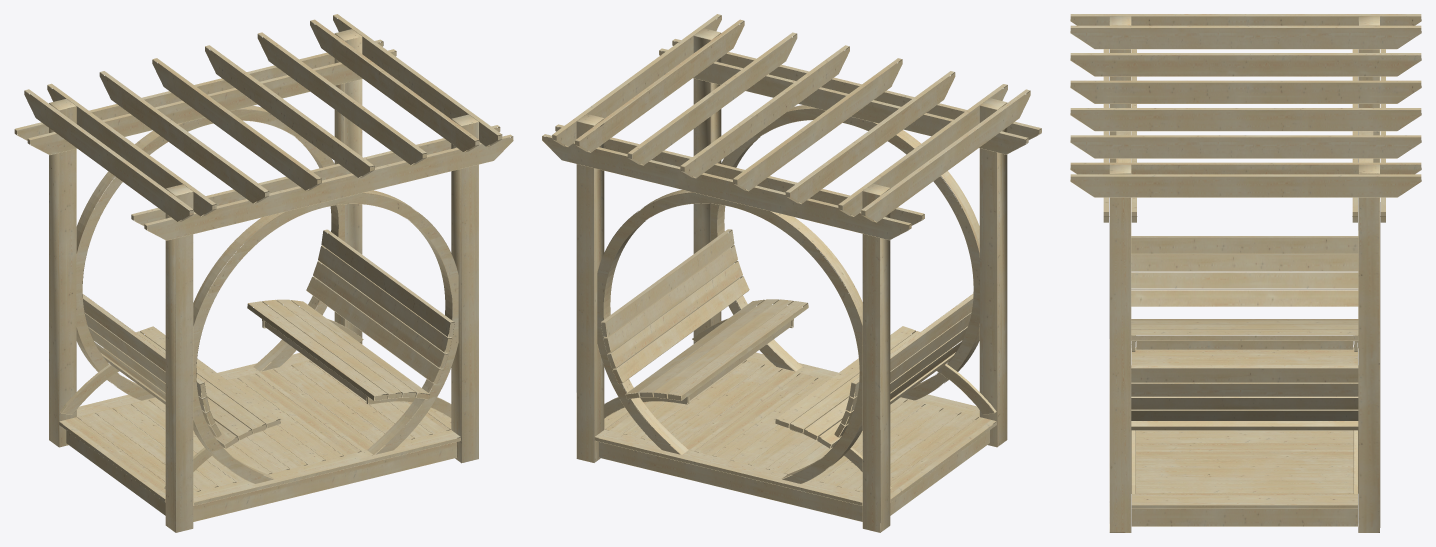
The model's file is pergola.glb.
The picture shows the model from 3 angles, left to right: view 1: azimuth 30°, elevation 25°; view 2: azimuth 150°, elevation 25°; view 3: azimuth 270°, elevation 25°; orthographic projection. The views are drawn at different scales.
Size of the model in its own units: 3.5 by 3.08 by 2.73.
1 material, 1 textured.
